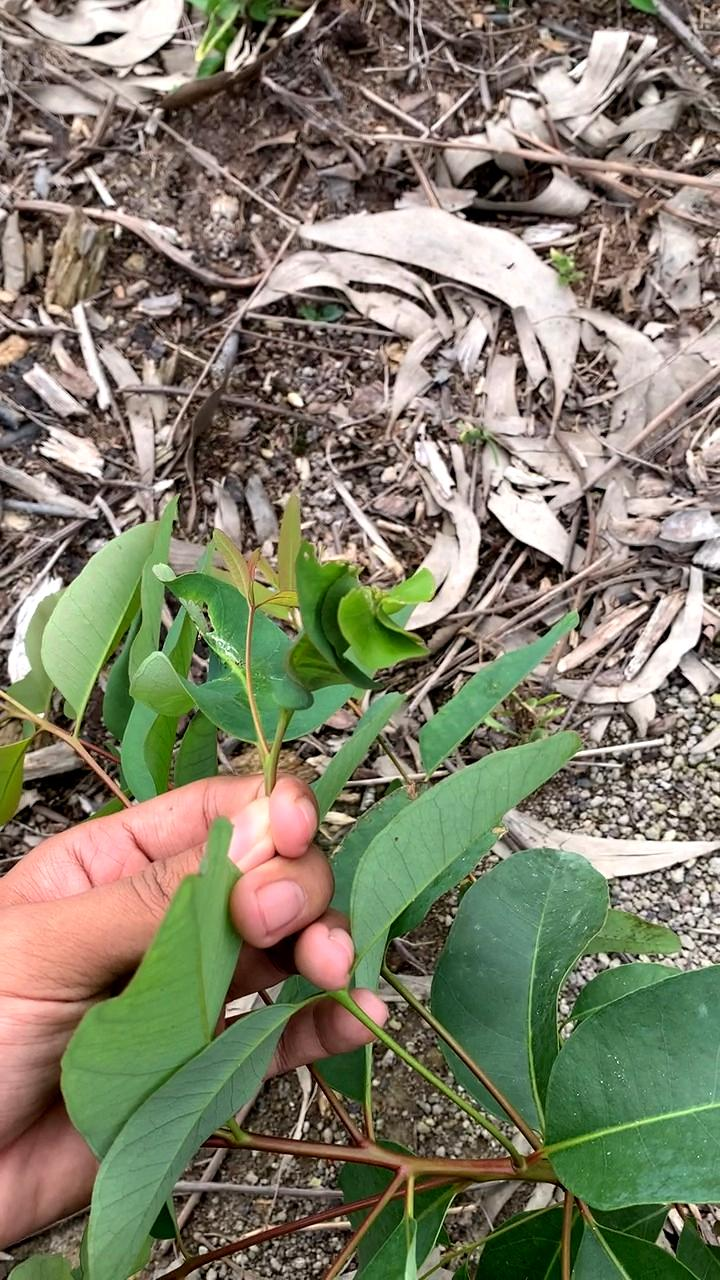Leaf Roller - Leaf: (266, 556, 473, 707)
